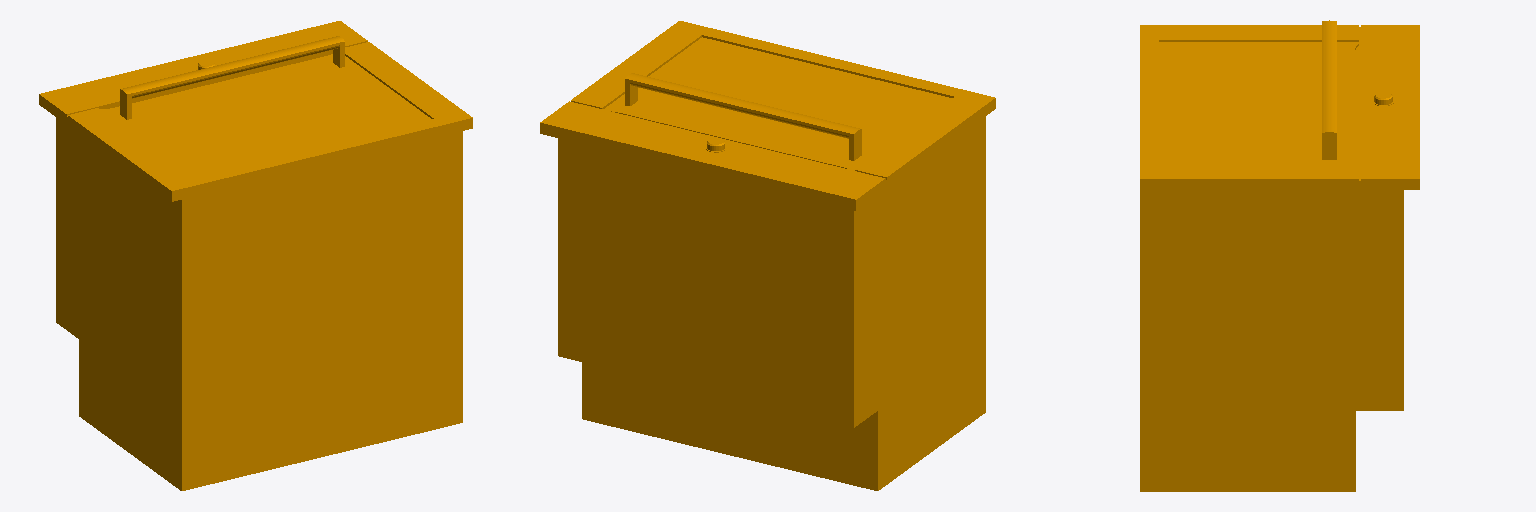
The robot description file, URDF, robot "none":
<robot name="none">
       <link name="none">
           <visual>
               <origin  rpy="0 0 0" xyz="0 0 0" />
               <geometry>
                   <mesh filename="3d-model.obj"  scale="0.002 0.002 0.002"/>
               </geometry>
           </visual>
          <collision>
<origin rpy="1.57 0 0" xyz="0 0 0.5" />
              <geometry>
                  <box size=" 1.362759 1.000000 1.058928" />
              </geometry>
          </collision>

          <inertial>
            <mass value="0.0" />
            <inertia ixx="0.05" ixy="0.0" ixz="0.0" iyy="0.05" iyz="0.0" izz="0.05"/>
          </inertial>
      </link>
  </robot>

--- What the picture shows (computed from the rendered views, not written in the file) ---
The picture shows the robot from 3 angles, left to right: view 1: azimuth 30°, elevation 25°; view 2: azimuth 150°, elevation 25°; view 3: azimuth 270°, elevation 25°; orthographic projection.
Model none with 1 links and 0 joints (none), rooted at none, posed every joint at zero.
Visible links, largest first — view 1: none; view 2: none; view 3: none.
Boxes of the visible links, <box> form: none: <box>39,21,472,490</box>; none: <box>540,21,995,490</box>; none: <box>1140,20,1419,491</box>.
Bounding box of the posed robot: 1.19 × 0.908 × 1.23 m (x, y, z).
Meshes: 1 distinct files referenced, 1 mesh visuals loaded (1 OBJ).